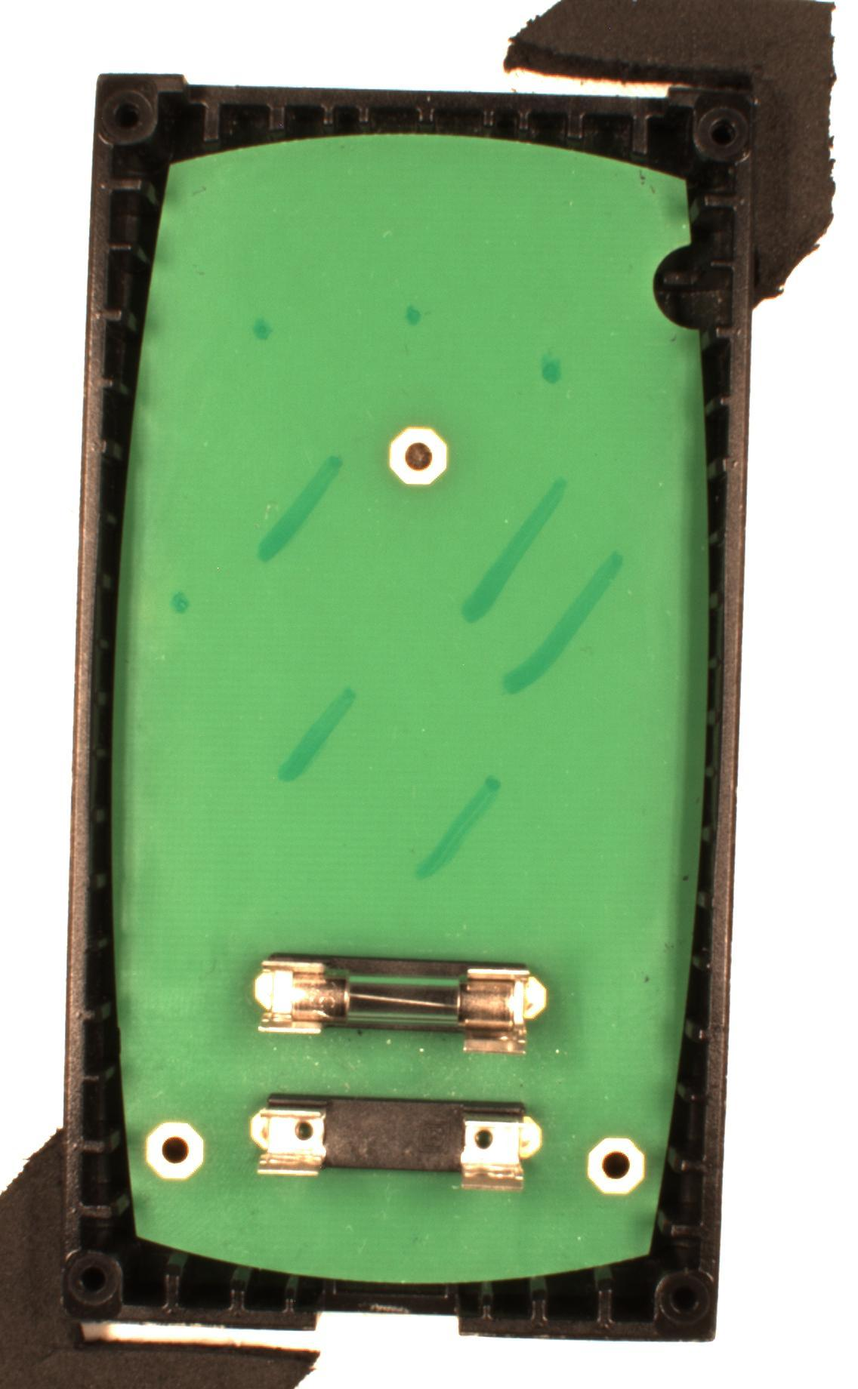Linijsko Ostecene: (501, 551, 625, 696), (460, 476, 568, 625), (255, 453, 344, 564), (413, 775, 502, 884), (276, 687, 359, 785)
Nepostojanje osiguraca: (249, 1092, 543, 1193)
Tockasto Ostecenje: (541, 355, 561, 386), (252, 317, 274, 343), (405, 302, 422, 329), (171, 591, 189, 615)
